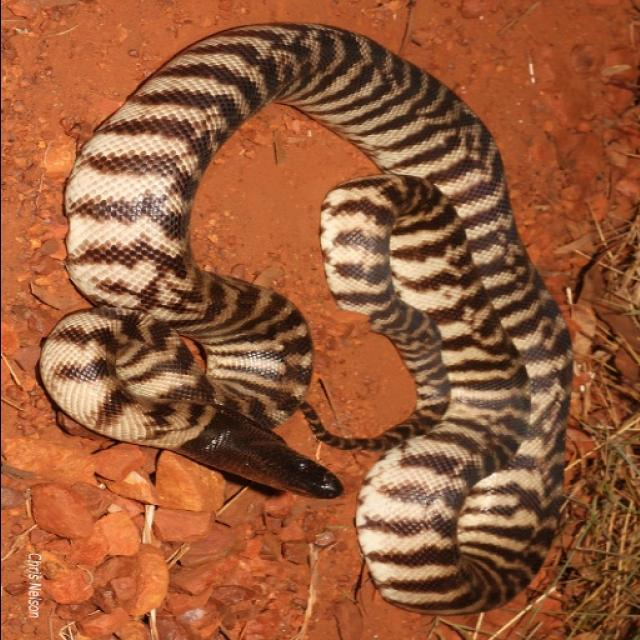snake: (39, 27, 580, 621)
